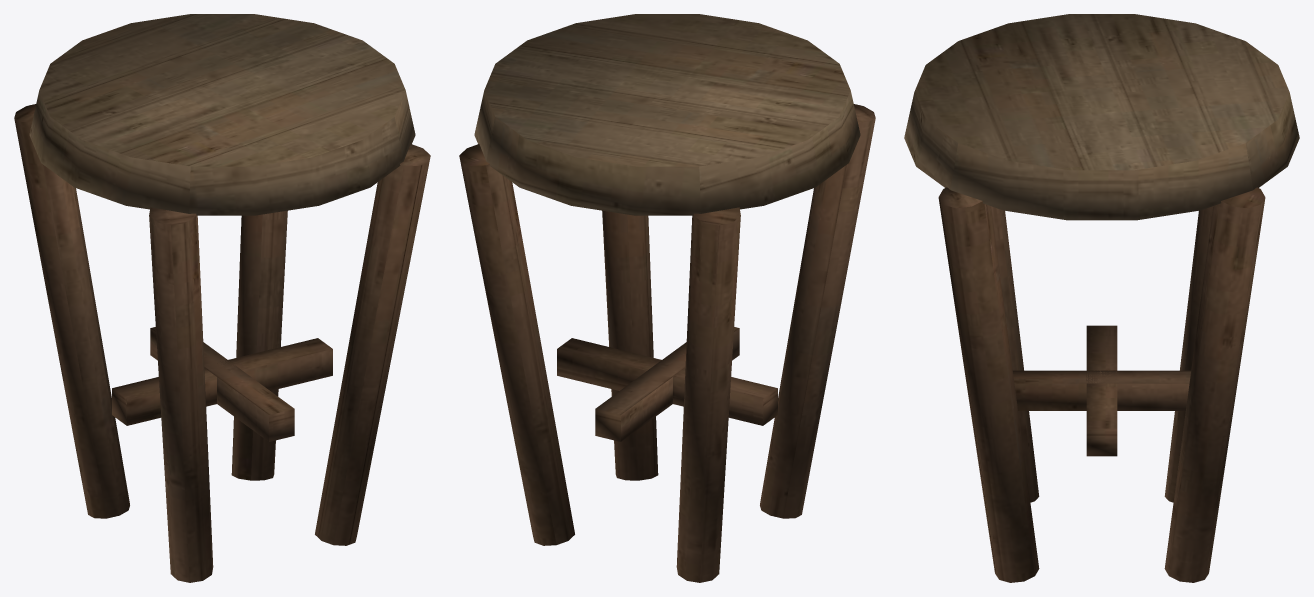
File: taburete_madera.glb
The picture shows the model from 3 angles, left to right: view 1: azimuth 30°, elevation 25°; view 2: azimuth 150°, elevation 25°; view 3: azimuth 270°, elevation 25°; orthographic projection. The views are drawn at different scales.
Visible parts, largest first — view 1: taburete_madera; view 2: taburete_madera; view 3: taburete_madera.
Boxes of the visible parts, bbox=[...] form: taburete_madera: bbox=[14, 14, 430, 582]; taburete_madera: bbox=[459, 14, 875, 582]; taburete_madera: bbox=[904, 14, 1299, 582].
Size of the model in its own units: 0.3841 by 0.4855 by 0.39.
Materials: 2 (2 with a texture image).
